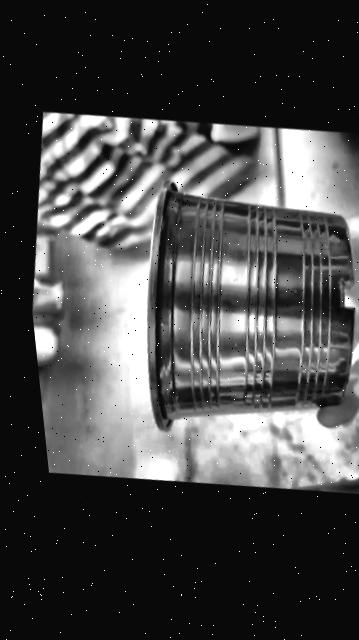pot: (146, 182, 352, 430)
